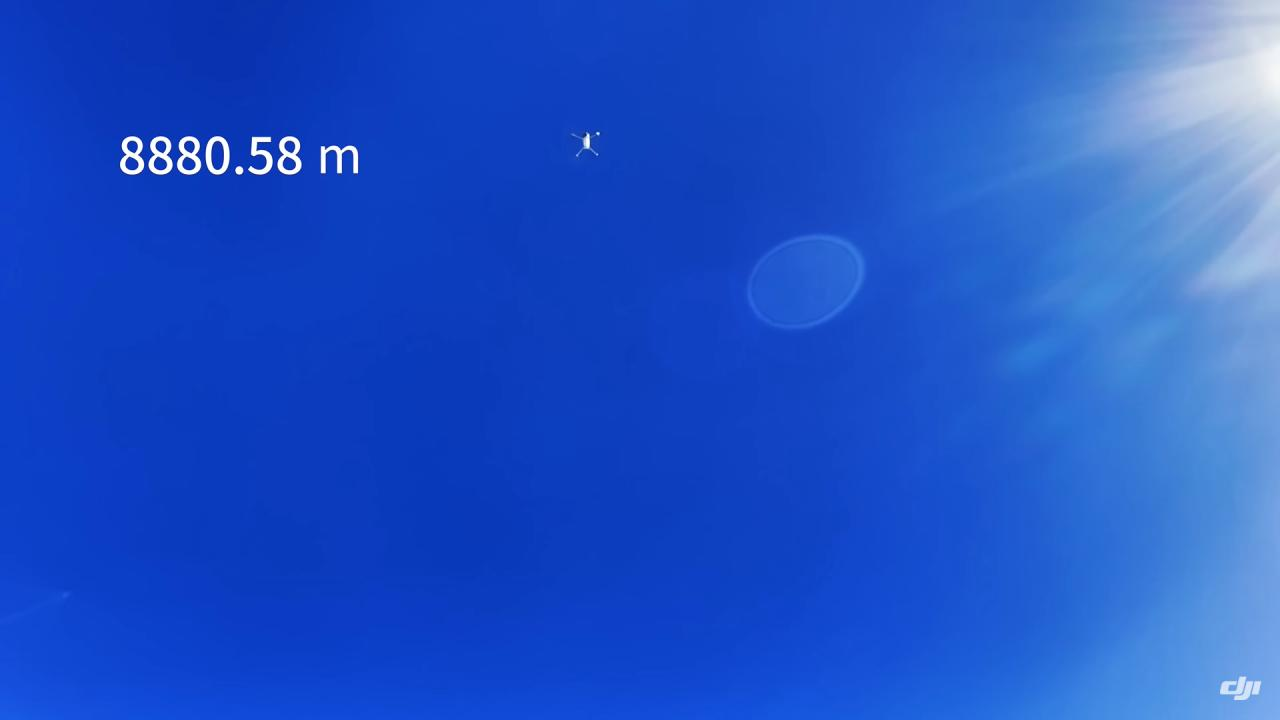Drone: (561, 124, 612, 166)
